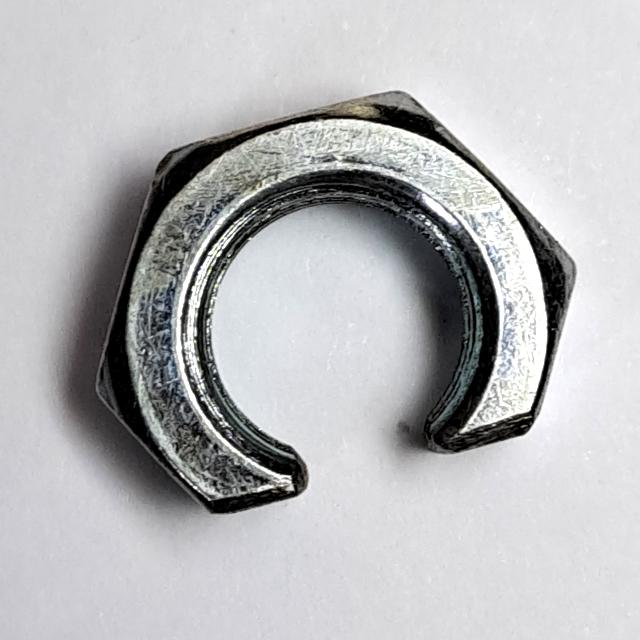Fracture: (77, 75, 591, 535)
